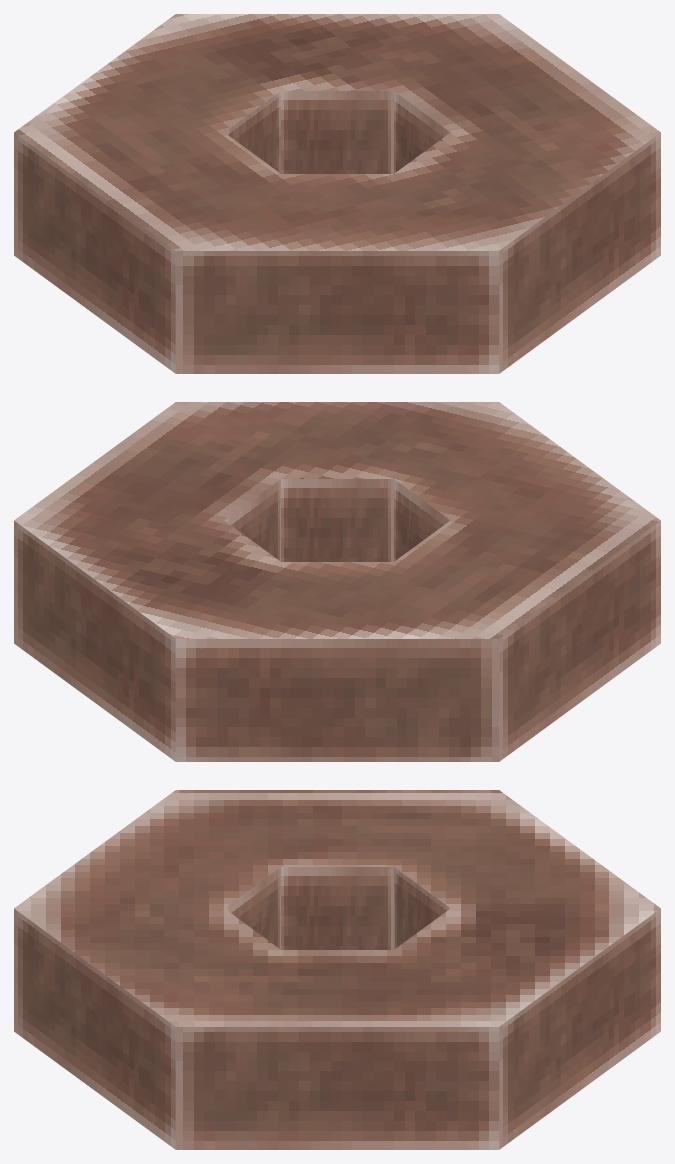
3 views of the same model, one above another, from view 1: azimuth 30°, elevation 25°; view 2: azimuth 150°, elevation 25°; view 3: azimuth 270°, elevation 25° (orthographic).
Visible parts, largest first — view 1: rusty_nut; view 2: rusty_nut; view 3: rusty_nut.
Boxes of the visible parts, x1,y1,x2,y2 form: rusty_nut: (14, 14, 660, 373); rusty_nut: (14, 402, 660, 761); rusty_nut: (14, 790, 660, 1149).
Size of the model in its own units: 52.82 by 12.8 by 60.99.
Materials: 1 (1 with a texture image).
